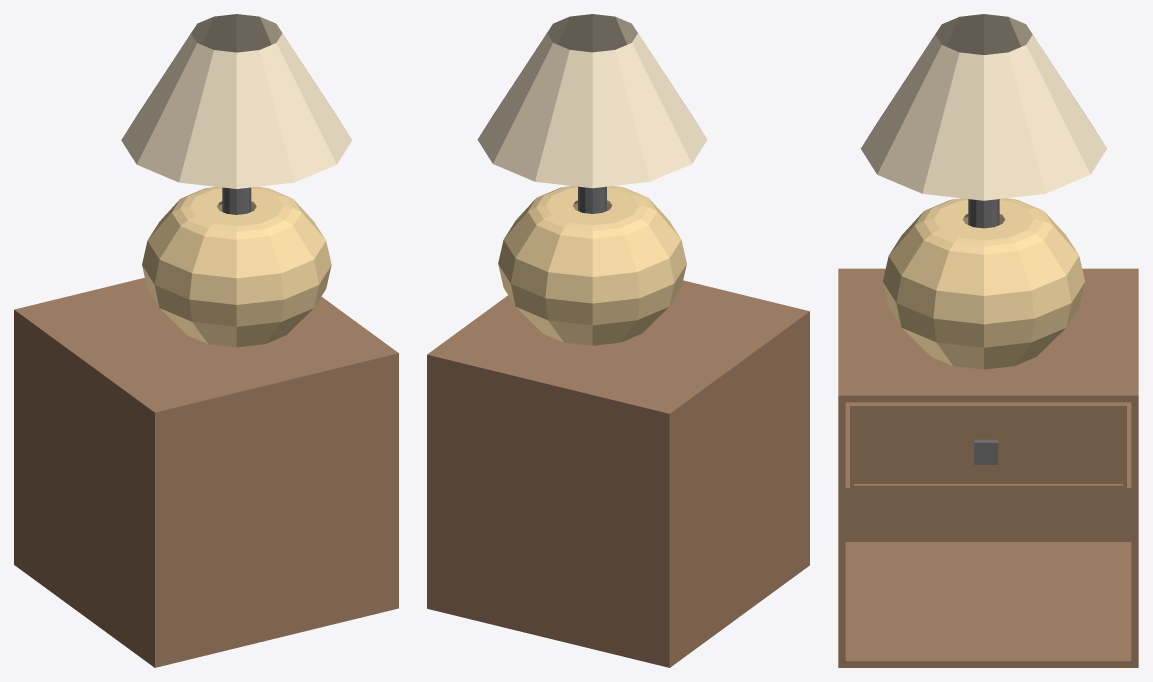
File: Buro_Y_Lampara.fbx
3 views of the same model, side by side, from view 1: azimuth 30°, elevation 25°; view 2: azimuth 150°, elevation 25°; view 3: azimuth 270°, elevation 25° (orthographic). The views are drawn at different scales.
Parts seen in each view (by area): view 1: Buro, LamparaMesa; view 2: Buro, LamparaMesa; view 3: Buro, LamparaMesa.
Boxes of the visible parts, <box> form: Buro: <box>14,277,398,667</box>; LamparaMesa: <box>121,14,352,347</box>; Buro: <box>427,280,809,667</box>; LamparaMesa: <box>477,14,707,345</box>; Buro: <box>838,268,1138,667</box>; LamparaMesa: <box>860,14,1106,369</box>.
Bounding box in the file's own units: 77 × 161 × 75.
